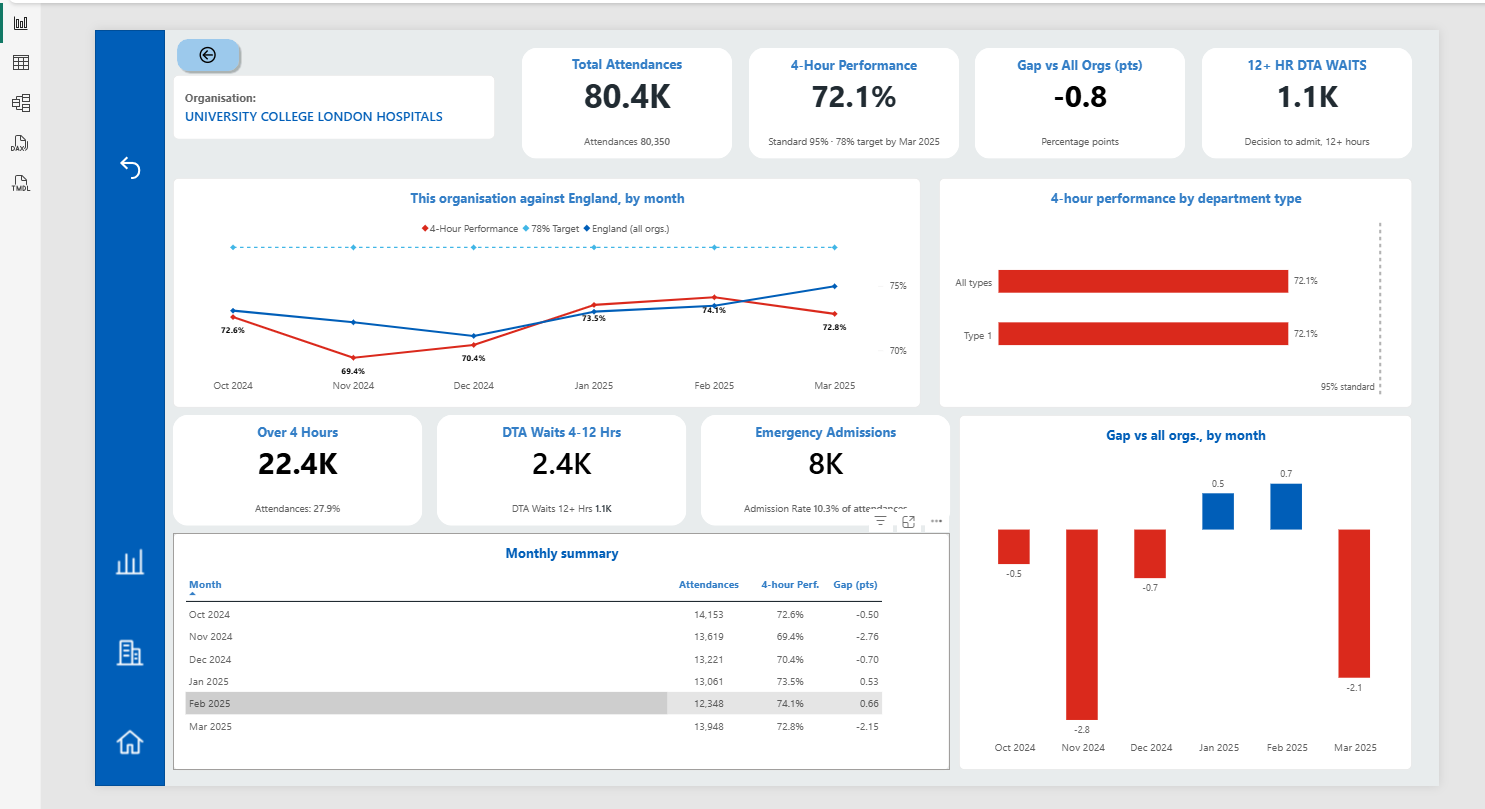

Layout of this report page (visuals, bound fields, positions):
{"tool":"powerbi","page":{"name":"Organisations","canvas":[1920,1080],"ordinal":2},"visuals":[{"type":"shape","box":[0,0,100,1080],"z":0},{"type":"cardVisual","fields":{"Data":["Measure_Table.Total Attendances"]},"box":[610.7,25.3,300,158.7],"z":4000},{"type":"cardVisual","fields":{"Data":["Measure_Table.4-Hour Performance"]},"box":[934.2,25.3,300,158.7],"z":5000},{"type":"cardVisual","fields":{"Data":["Measure_Table.Gap vs All Orgs (pts)"]},"box":[1257.8,25.3,300,158.7],"z":6000},{"type":"cardVisual","fields":{"Data":["Measure_Table.DTA Waits 12+ Hrs"]},"box":[1581.4,25.3,300,158.7],"z":7000},{"type":"lineChart","title":"This organisation against England, by month","fields":{"Category":["Calendar_Table.Month Year"],"Y2":["Measure_Table.4-Hour Performance","Measure_Table.78% Target","Measure_Table.4-Hour Performance (All Orgs)"]},"box":[112,212,1068,328],"z":8000},{"type":"clusteredBarChart","title":"4-hour performance by department type","fields":{"Category":["Dept_Type.Type"],"Y":["Measure_Table.Performance by Type"]},"box":[1205.3,212,676,328],"z":9000},{"type":"cardVisual","fields":{"Data":["Measure_Table.DTA Waits 4-12 Hrs"]},"box":[488.7,550.7,356,158.7],"z":10000},{"type":"cardVisual","fields":{"Data":["Measure_Table.Emergency Admissions via A&E"]},"box":[865.3,550.7,356,158.7],"z":11000},{"type":"cardVisual","fields":{"Data":["Measure_Table.Attendances Over 4 Hrs"]},"box":[112,550.7,356,158.7],"z":12000},{"type":"tableEx","title":"Monthly summary","fields":{"Values":["Calendar_Table.Month Year","Measure_Table.Total Attendances","Measure_Table.4-Hour Performance","Measure_Table.Gap vs All Orgs (pts)"]},"box":[112,718.7,1109.3,338.7],"z":13000},{"type":"clusteredColumnChart","title":"Gap vs all orgs., by month","fields":{"Category":["Calendar_Table.Month Year"],"Y":["Measure_Table.Gap vs All Orgs (pts)"]},"box":[1234.7,550.7,646.7,506.7],"z":14000},{"type":"actionButton","box":[0,157.1,100,78.6],"z":15000},{"type":"actionButton","box":[0,718.6,100,80],"z":16000},{"type":"actionButton","box":[0,847.9,100,80],"z":17000},{"type":"actionButton","box":[0,977.1,100,80],"z":18000},{"type":"actionButton","box":[111.4,7.1,100,57.1],"z":19001},{"type":"cardVisual","fields":{"Data":["Min(AE_Fact.Org name)"]},"box":[111.4,64.3,460,92.9],"z":19002}]}

Visuals, with their boxes on the page's 1920x1080 design canvas (x1, y1, x2, y2). These are canvas units, not pixel positions in the 1485x809 screenshot, which may show the page scaled, cropped or inside an application window:
shape: locate(0, 0, 100, 1080)
cardVisual - Measure_Table.Total Attendances: locate(611, 25, 911, 184)
cardVisual - Measure_Table.4-Hour Performance: locate(934, 25, 1234, 184)
cardVisual - Measure_Table.Gap vs All Orgs (pts): locate(1258, 25, 1558, 184)
cardVisual - Measure_Table.DTA Waits 12+ Hrs: locate(1581, 25, 1881, 184)
"This organisation against England, by month" lineChart: locate(112, 212, 1180, 540)
"4-hour performance by department type" clusteredBarChart: locate(1205, 212, 1881, 540)
cardVisual - Measure_Table.DTA Waits 4-12 Hrs: locate(489, 551, 845, 709)
cardVisual - Measure_Table.Emergency Admissions via A&E: locate(865, 551, 1221, 709)
cardVisual - Measure_Table.Attendances Over 4 Hrs: locate(112, 551, 468, 709)
"Monthly summary" tableEx: locate(112, 719, 1221, 1057)
"Gap vs all orgs., by month" clusteredColumnChart: locate(1235, 551, 1881, 1057)
actionButton: locate(0, 157, 100, 236)
actionButton: locate(0, 719, 100, 799)
actionButton: locate(0, 848, 100, 928)
actionButton: locate(0, 977, 100, 1057)
actionButton: locate(111, 7, 211, 64)
cardVisual - Min(AE_Fact.Org name): locate(111, 64, 571, 157)
